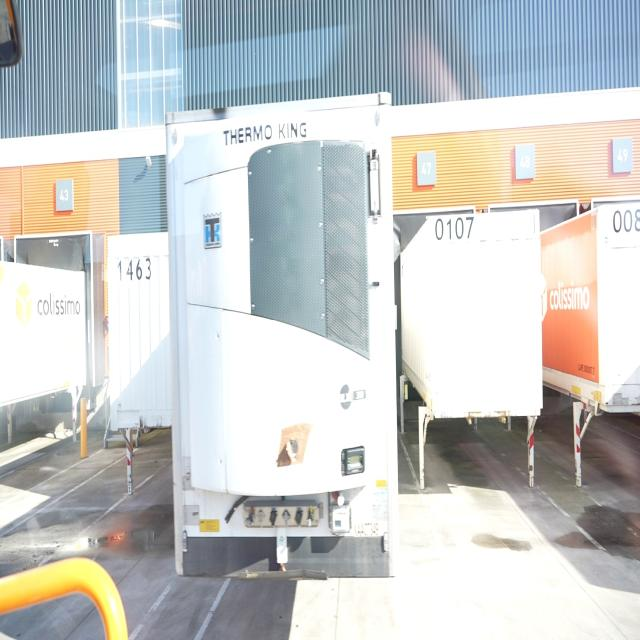Code: (431, 209, 476, 245), (115, 254, 155, 286)
